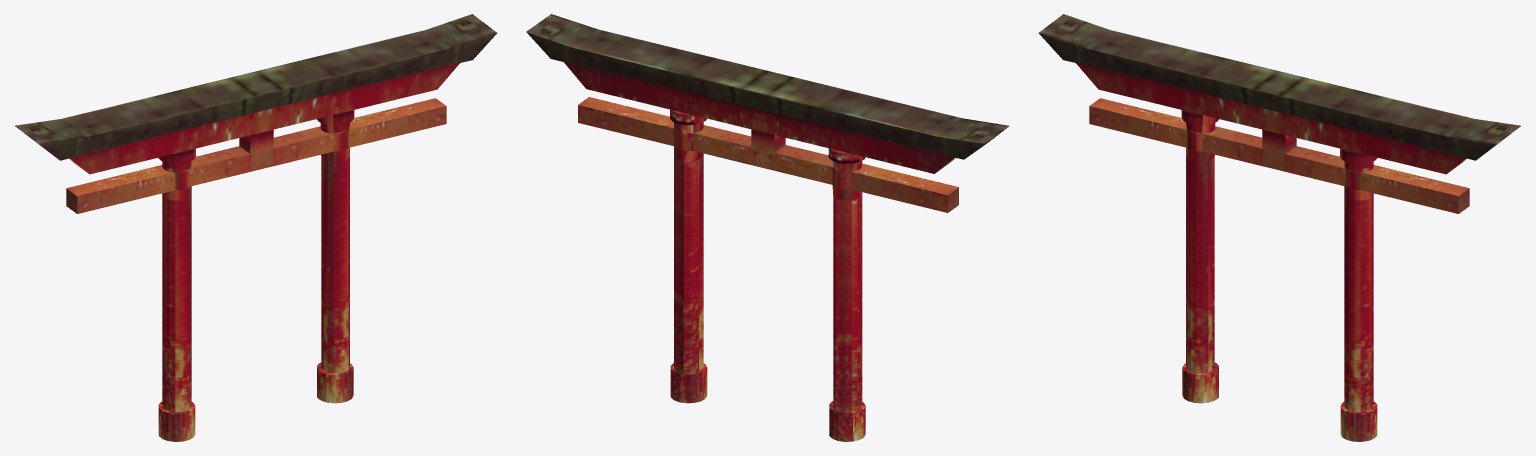
The model's file is toriigate.fbx.
3 renders of one model, left to right at view 1: azimuth 30°, elevation 25°; view 2: azimuth 150°, elevation 25°; view 3: azimuth 330°, elevation 25°, orthographic.
Parts seen in each view (by area): view 1: Cylinder; view 2: Cylinder; view 3: Cylinder.
Boxes of the visible parts, x1=… form: Cylinder: x1=15, y1=14, x2=497, y2=441; Cylinder: x1=526, y1=14, x2=1009, y2=441; Cylinder: x1=1038, y1=14, x2=1520, y2=441.
Bounding box in the file's own units: 2842 × 1991 × 271.
Materials: 1 (1 with a texture image).
